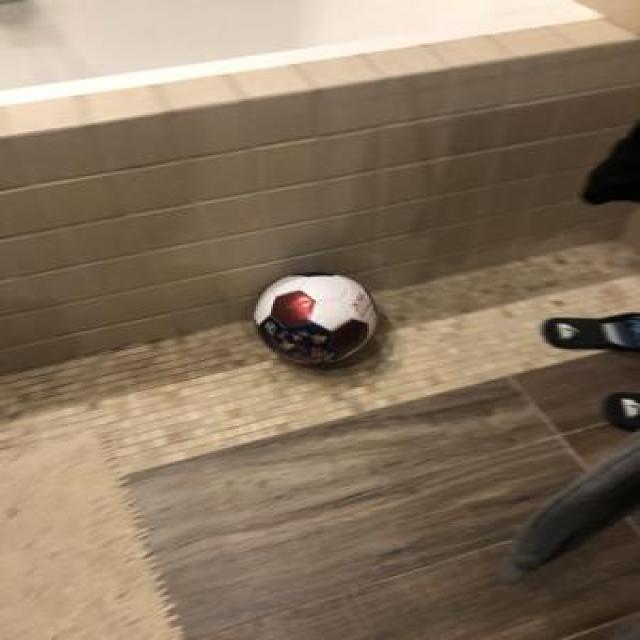Soccer Ball: (245, 268, 380, 366)
